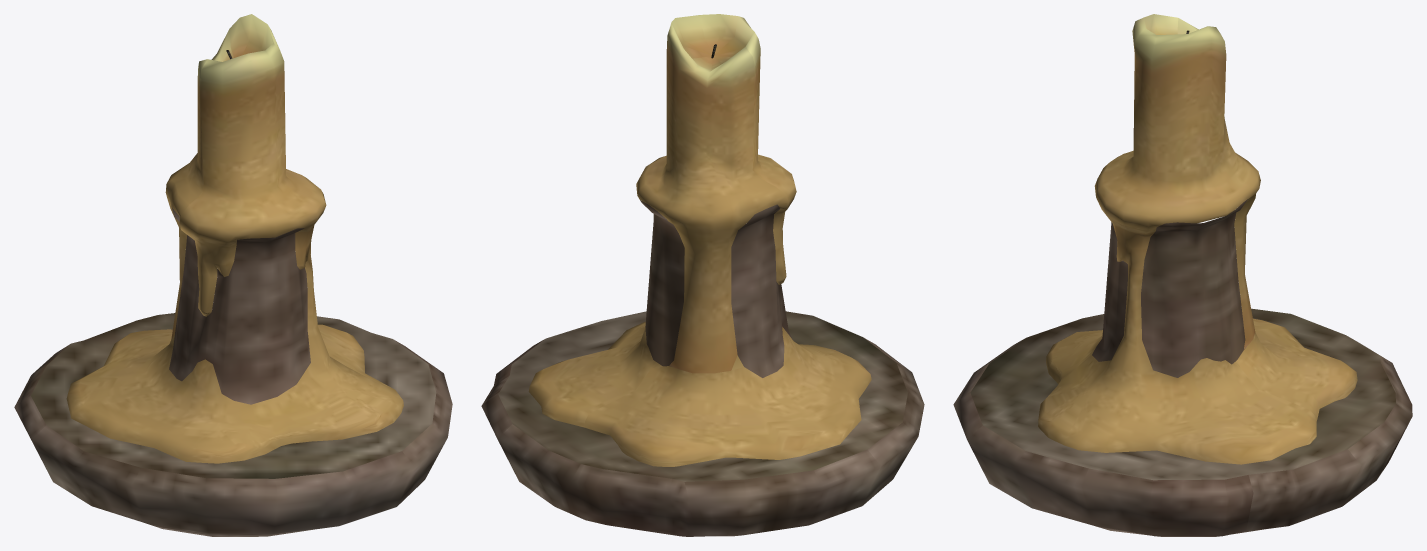
File: GEN_PRO_Candle_Simple_Wood_01A_LOD0-transformed.glb
3 views of the same model, side by side, from view 1: azimuth 30°, elevation 25°; view 2: azimuth 150°, elevation 25°; view 3: azimuth 270°, elevation 25° (orthographic). The views are drawn at different scales.
Parts seen in each view (by area): view 1: default; view 2: default; view 3: default.
Boxes of the visible parts, <box> form: default: <box>14,14,452,536</box>; default: <box>481,14,924,536</box>; default: <box>953,14,1412,536</box>.
Size of the model in its own units: 0.2655 by 0.2989 by 0.2716.
2 materials, 2 textured.
